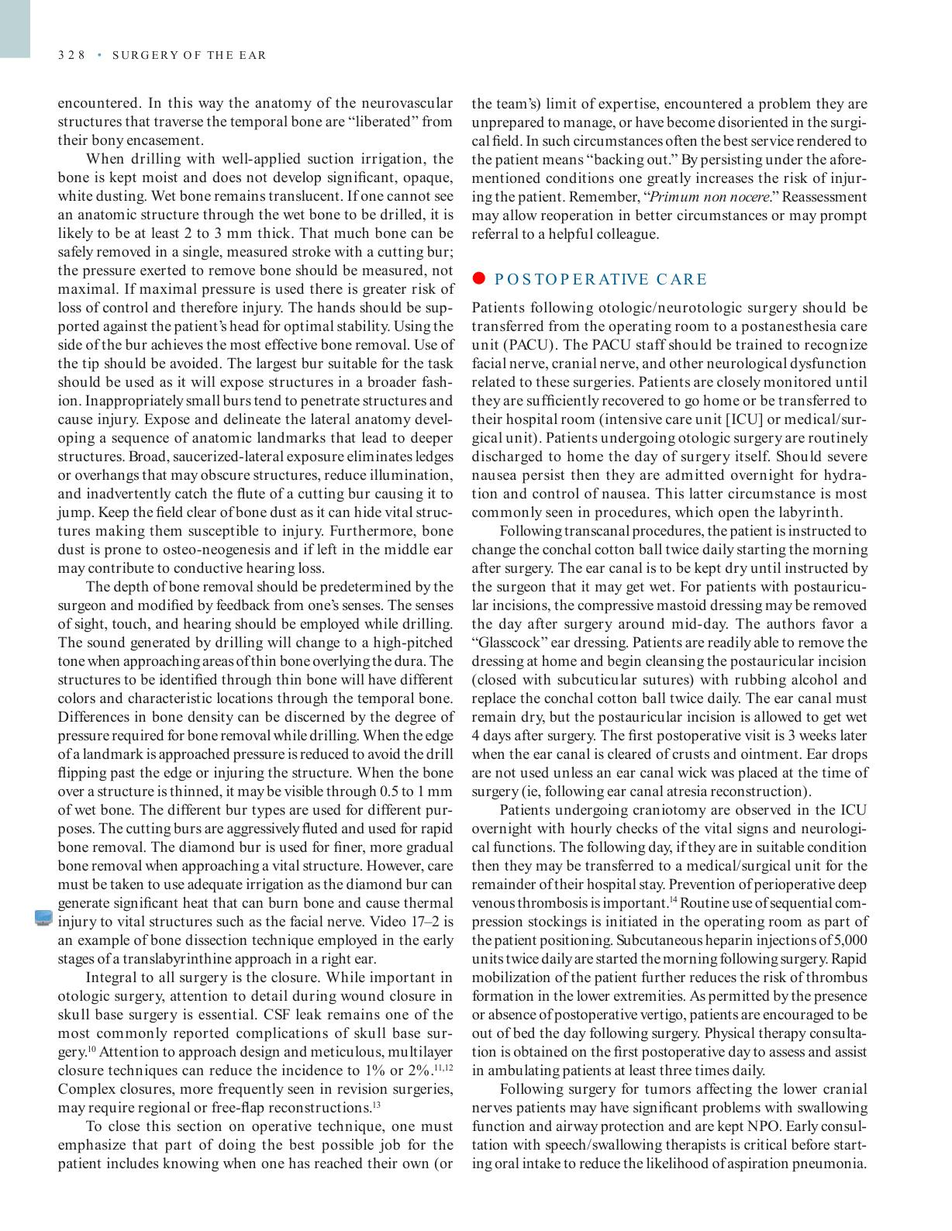header: (111, 49, 267, 61)
section-heading: (494, 270, 708, 287)
text: (54, 94, 456, 1174), (470, 298, 870, 1175), (469, 94, 869, 246)
